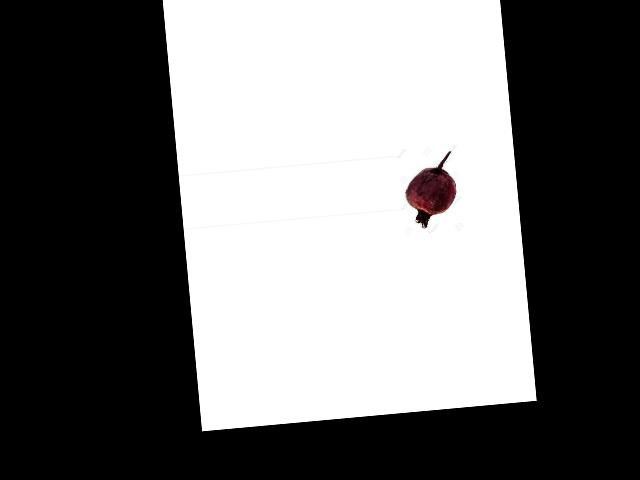beet: (402, 151, 460, 230)
